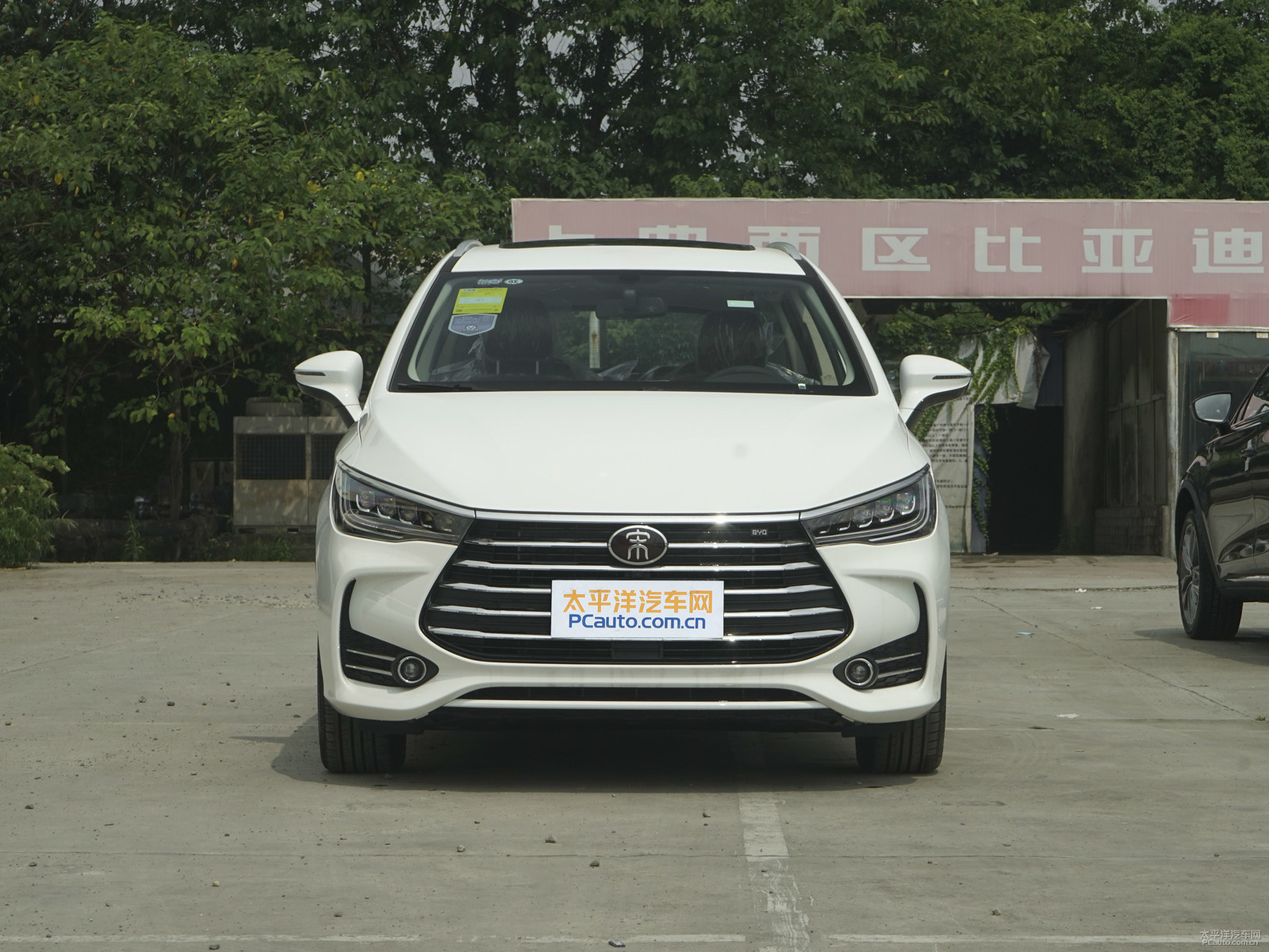BYD Song: (609, 526, 667, 564)
